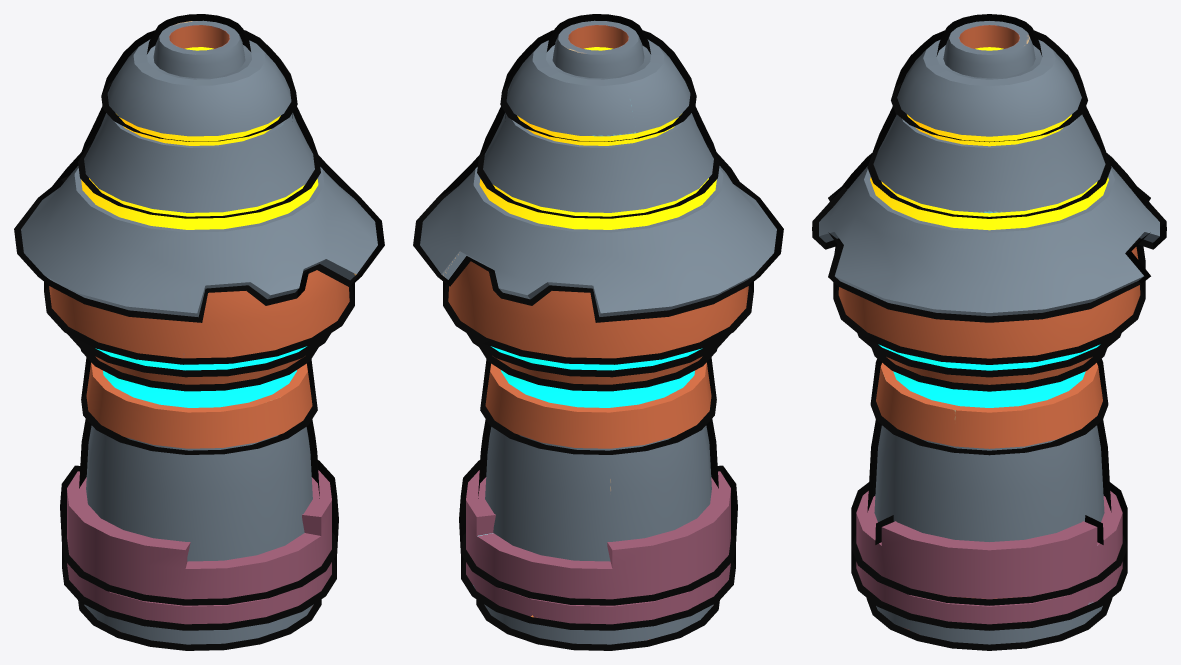
File: volcanoDEF1.fbx
3 views of the same model, side by side, from view 1: azimuth 30°, elevation 25°; view 2: azimuth 150°, elevation 25°; view 3: azimuth 270°, elevation 25° (orthographic).
Parts seen in each view (by area): view 1: vulcan1 (×2); view 2: vulcan1 (×2); view 3: vulcan1 (×2).
Boxes of the visible parts, bbox=[...] form: vulcan1 (×2): bbox=[14, 14, 384, 650]; vulcan1 (×2): bbox=[413, 14, 783, 650]; vulcan1 (×2): bbox=[812, 14, 1166, 650].
Size of the model in its own units: 5.11 by 8.59 by 4.86.
2 materials, 1 textured.
